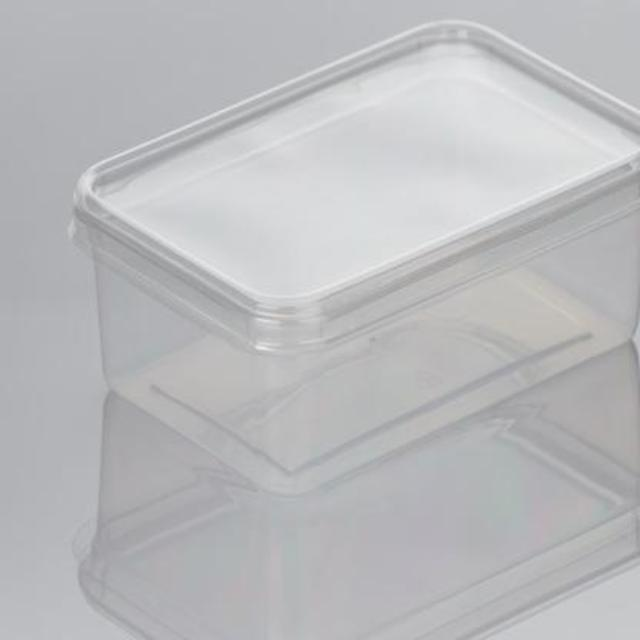plastic_box: (79, 18, 639, 498)
